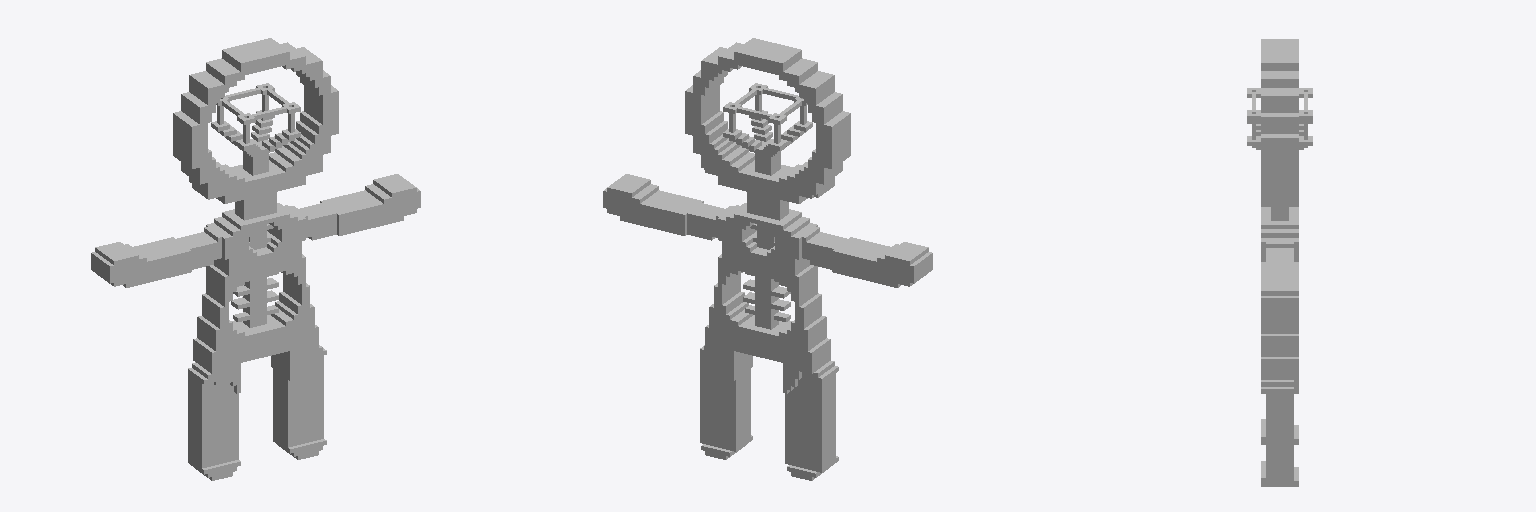
Rendered from cookie mutantl.obj.
3 views of the same model, side by side, from view 1: azimuth 30°, elevation 25°; view 2: azimuth 150°, elevation 25°; view 3: azimuth 270°, elevation 25° (orthographic).
Parts seen in each view (by area): view 1: cookie mutantl; view 2: cookie mutantl; view 3: cookie mutantl.
Boxes of the visible parts, x1=… form: cookie mutantl: x1=91, y1=38, x2=420, y2=480; cookie mutantl: x1=603, y1=38, x2=932, y2=480; cookie mutantl: x1=1247, y1=39, x2=1312, y2=486.
Bounding box in the file's own units: 76 × 96 × 14.